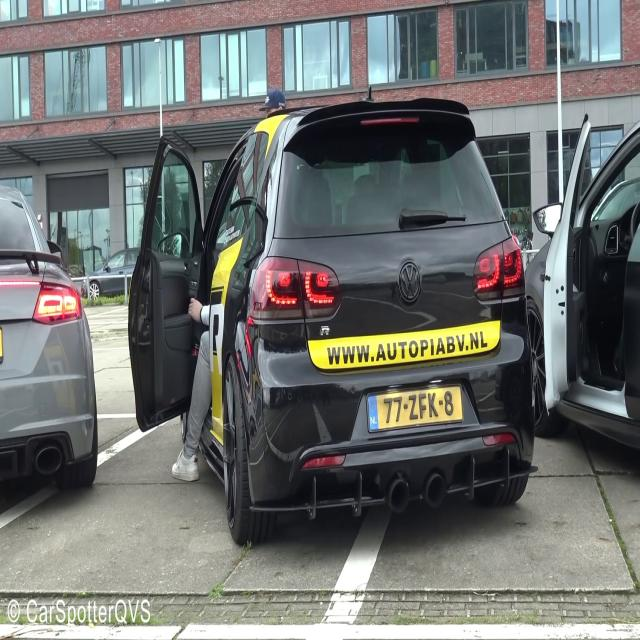number_plate: (364, 382, 465, 430)
